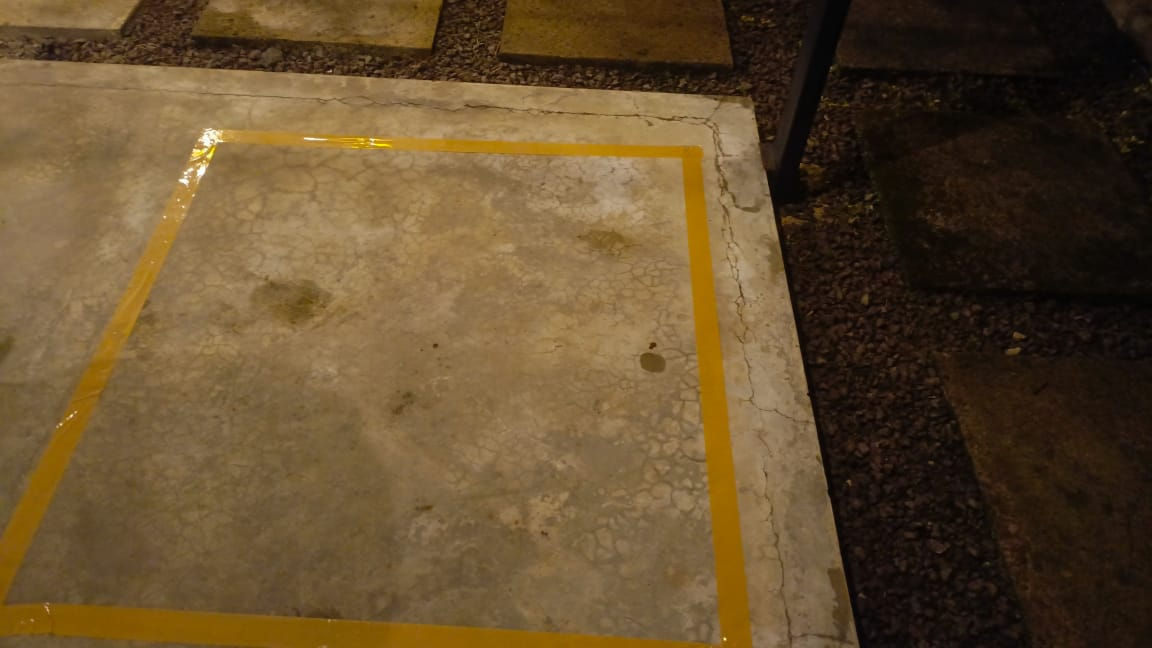floor marking: (0, 129, 752, 647)
